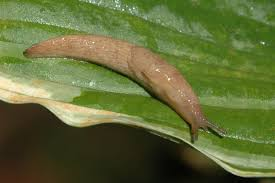slug: (25, 34, 222, 139)
